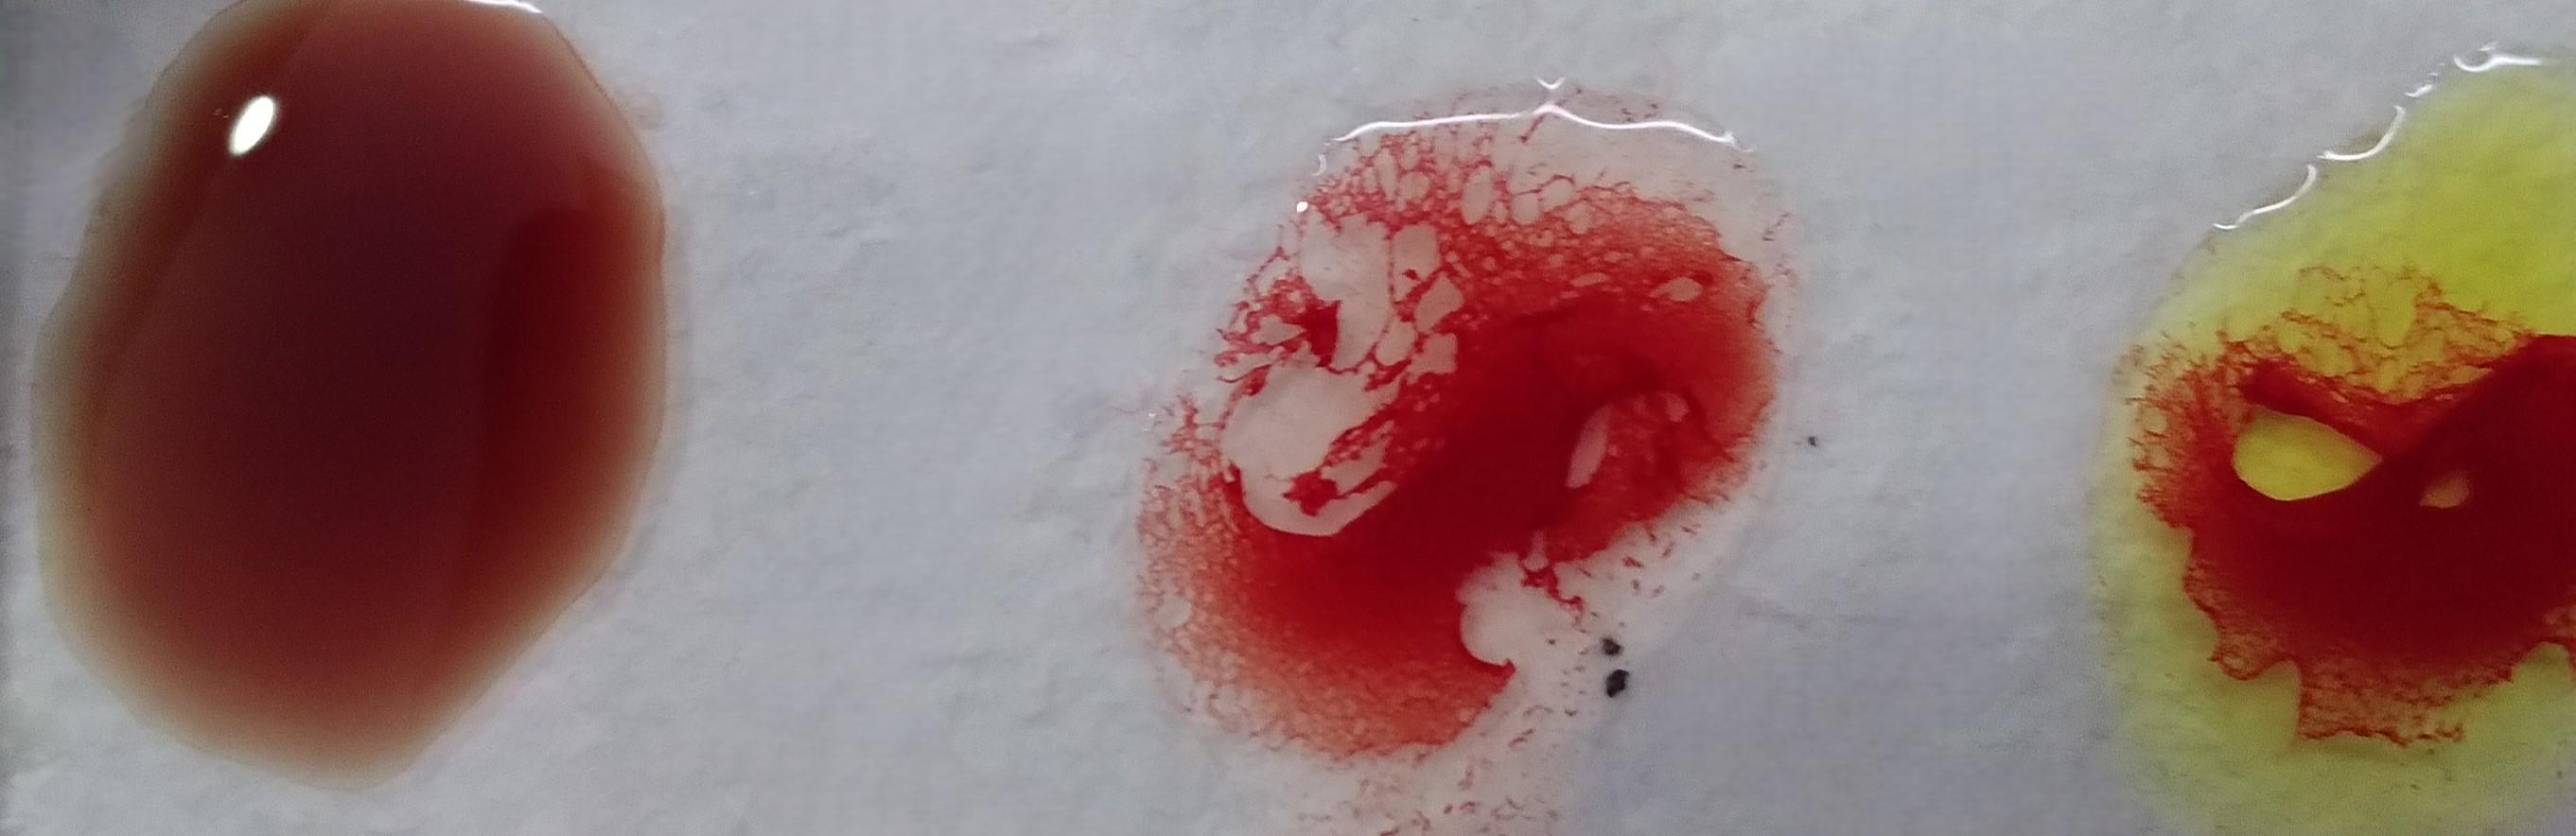B: (2096, 51, 2571, 826)
D: (1199, 113, 1712, 811)
